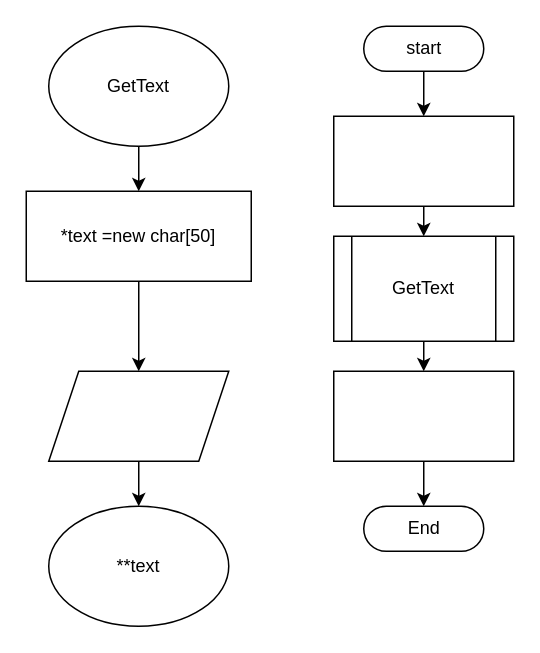
The diagram is 540 pixels wide and 653 high, and some of its shapes have lost their labels. The centre of each missing label's shape, as x and y in pixels:
"*str" belongs at (423,160).
"input *text" belongs at (138,415).
"output text" belongs at (423,415).
